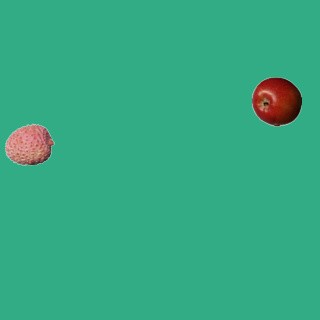Apple Braeburn: (251, 76, 301, 126)
Lychee: (4, 119, 54, 169)
